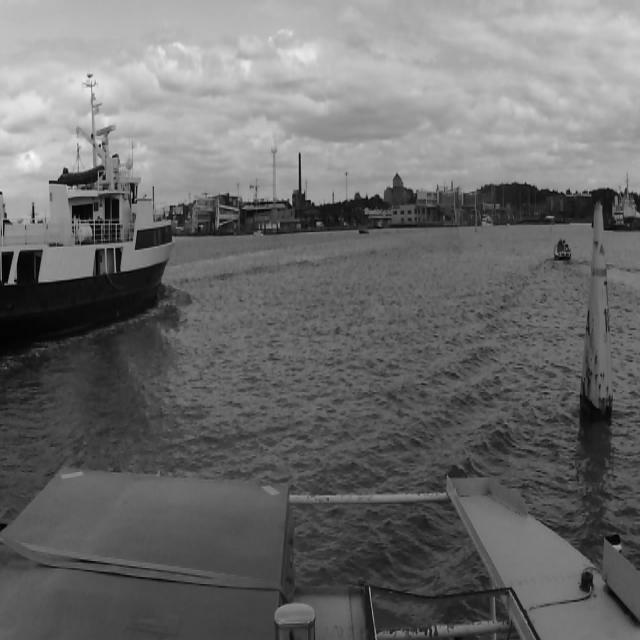buoy: (585, 205, 613, 419), (473, 212, 479, 234)
ship: (4, 71, 173, 354), (608, 173, 638, 231), (554, 238, 572, 262)
